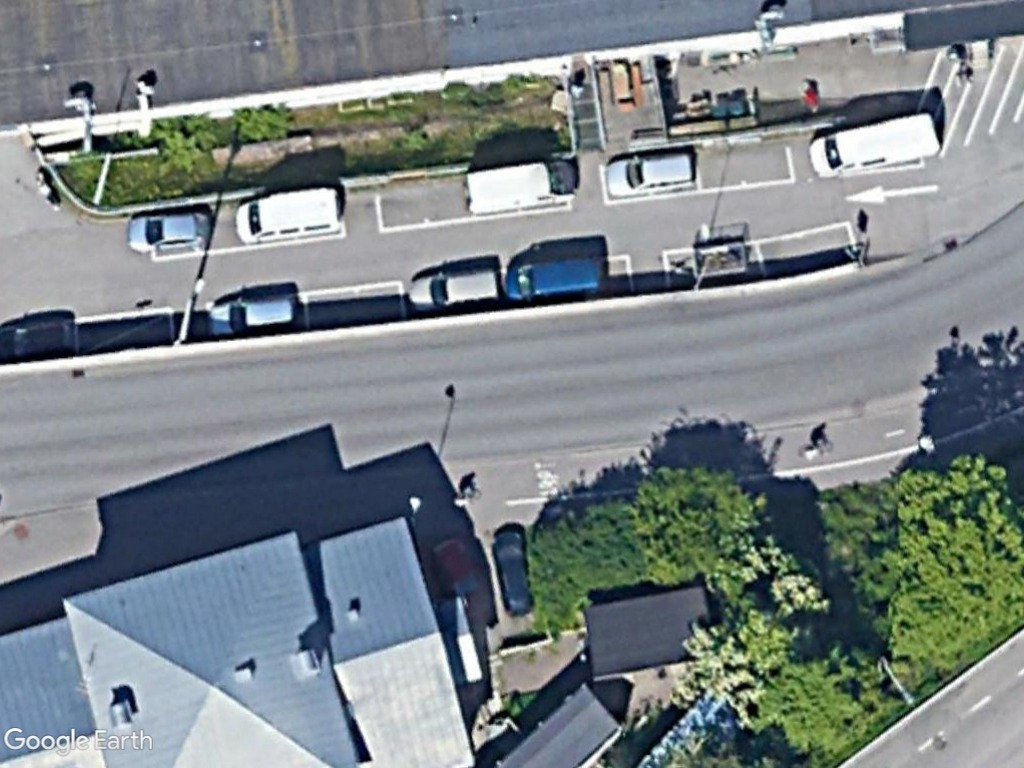car: (598, 144, 707, 204), (397, 260, 510, 315), (490, 525, 543, 624), (123, 204, 217, 256)
truck: (453, 151, 585, 219)
van: (804, 107, 949, 183), (229, 180, 348, 252), (501, 252, 613, 310)
